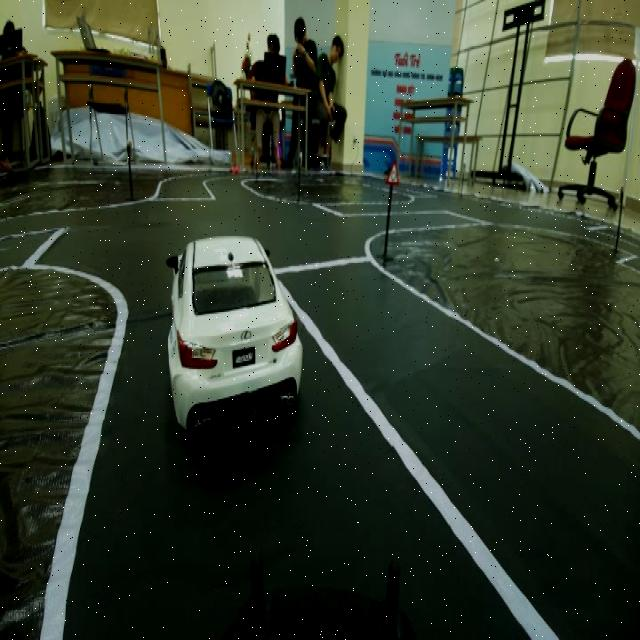car: (168, 222, 313, 442)
